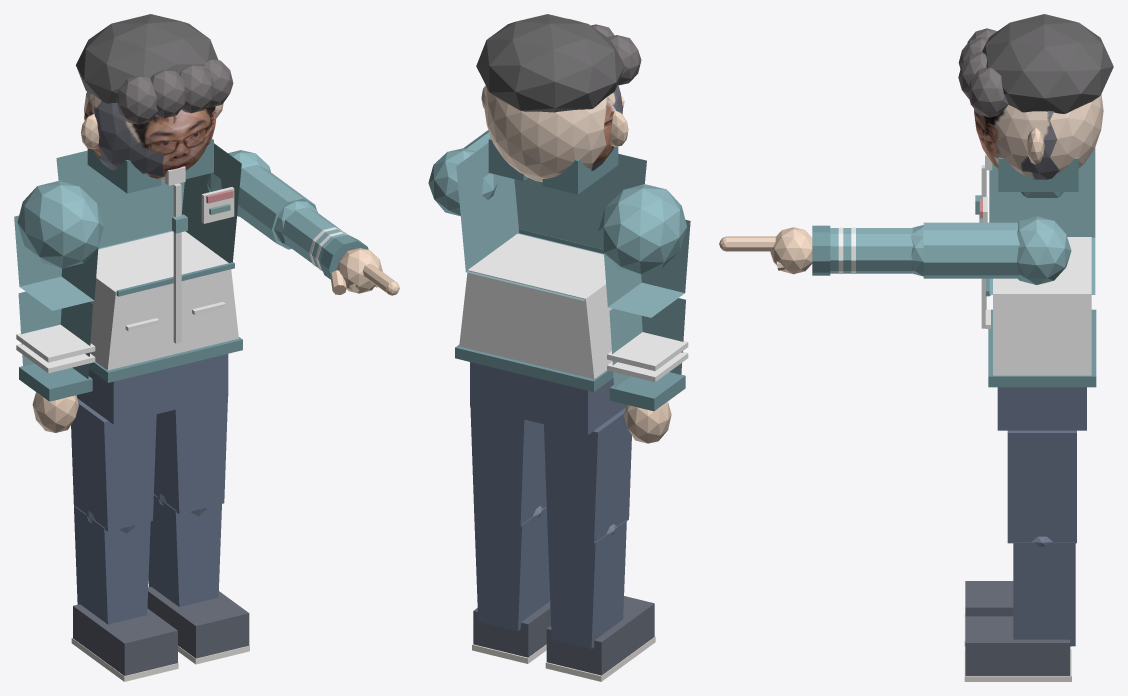
The model's file is kien_an_student_anh_tai.glb.
The picture shows the model from 3 angles, left to right: view 1: azimuth 30°, elevation 25°; view 2: azimuth 150°, elevation 25°; view 3: azimuth 270°, elevation 25°; orthographic projection. The views are drawn at different scales.
Visible parts, largest first — view 1: Jacket_Lower_White, LeftThigh, Jacket_Upper_Teal, HairCap, RightThigh, LeftShin, RightShin, Pants_Waist, LeftShoulderCap, LeftShoe, RightShoe, LeftUpperSleeve (+23 smaller); view 2: Jacket_Lower_White, Jacket_Upper_Teal, HairCap, LeftThigh, LeftShin, RightThigh, RightShin, Head, Pants_Waist, LeftShoulderCap, LeftShoe, LeftUpperSleeve (+16 smaller); view 3: Jacket_Lower_White, HairCap, RightThigh, RightShin, RightUpperSleeve, RightShoe, Head, Jacket_Upper_Teal, Pants_Waist, RightForearmSleeve, RightShoulderCap, Jacket_Hem (+11 smaller).
Boxes of the visible parts, x1,y1,x2,y2 form: Jacket_Lower_White: [90, 231, 238, 370]; LeftThigh: [71, 398, 156, 531]; Jacket_Upper_Teal: [56, 143, 241, 293]; HairCap: [76, 14, 218, 103]; RightThigh: [154, 397, 227, 514]; LeftShin: [74, 506, 150, 624]; RightShin: [148, 494, 221, 606]; Pants_Waist: [76, 354, 228, 424]; LeftShoulderCap: [17, 181, 103, 268]; LeftShoe: [73, 604, 177, 675]; RightShoe: [147, 586, 249, 658]; LeftUpperSleeve: [14, 215, 98, 310]; Jacket_Lower_White: [459, 233, 612, 379]; Jacket_Upper_Teal: [456, 143, 646, 300]; HairCap: [476, 14, 624, 112]; LeftThigh: [544, 408, 631, 544]; LeftShin: [547, 520, 626, 648]; RightThigh: [470, 406, 546, 527]; RightShin: [474, 507, 549, 630]; Head: [484, 88, 615, 182]; Pants_Waist: [470, 362, 625, 434]; LeftShoulderCap: [598, 184, 686, 274]; LeftShoe: [546, 596, 654, 675]; LeftUpperSleeve: [604, 219, 690, 317]; Jacket_Lower_White: [993, 237, 1091, 375]; HairCap: [982, 14, 1113, 113]; RightThigh: [1007, 430, 1076, 543]; RightShin: [1013, 542, 1075, 646]; RightUpperSleeve: [923, 222, 1019, 278]; RightShoe: [965, 616, 1070, 675]; Head: [993, 94, 1103, 177]; Jacket_Upper_Teal: [989, 148, 1095, 294]; Pants_Waist: [997, 387, 1086, 430]; RightForearmSleeve: [830, 228, 913, 273]; RightShoulderCap: [1017, 216, 1071, 284]; Jacket_Hem: [988, 309, 1096, 387].
Bounding box in the file's own units: 0.779 × 1.89 × 1.08.
Materials: 20 (3 with a texture image).
